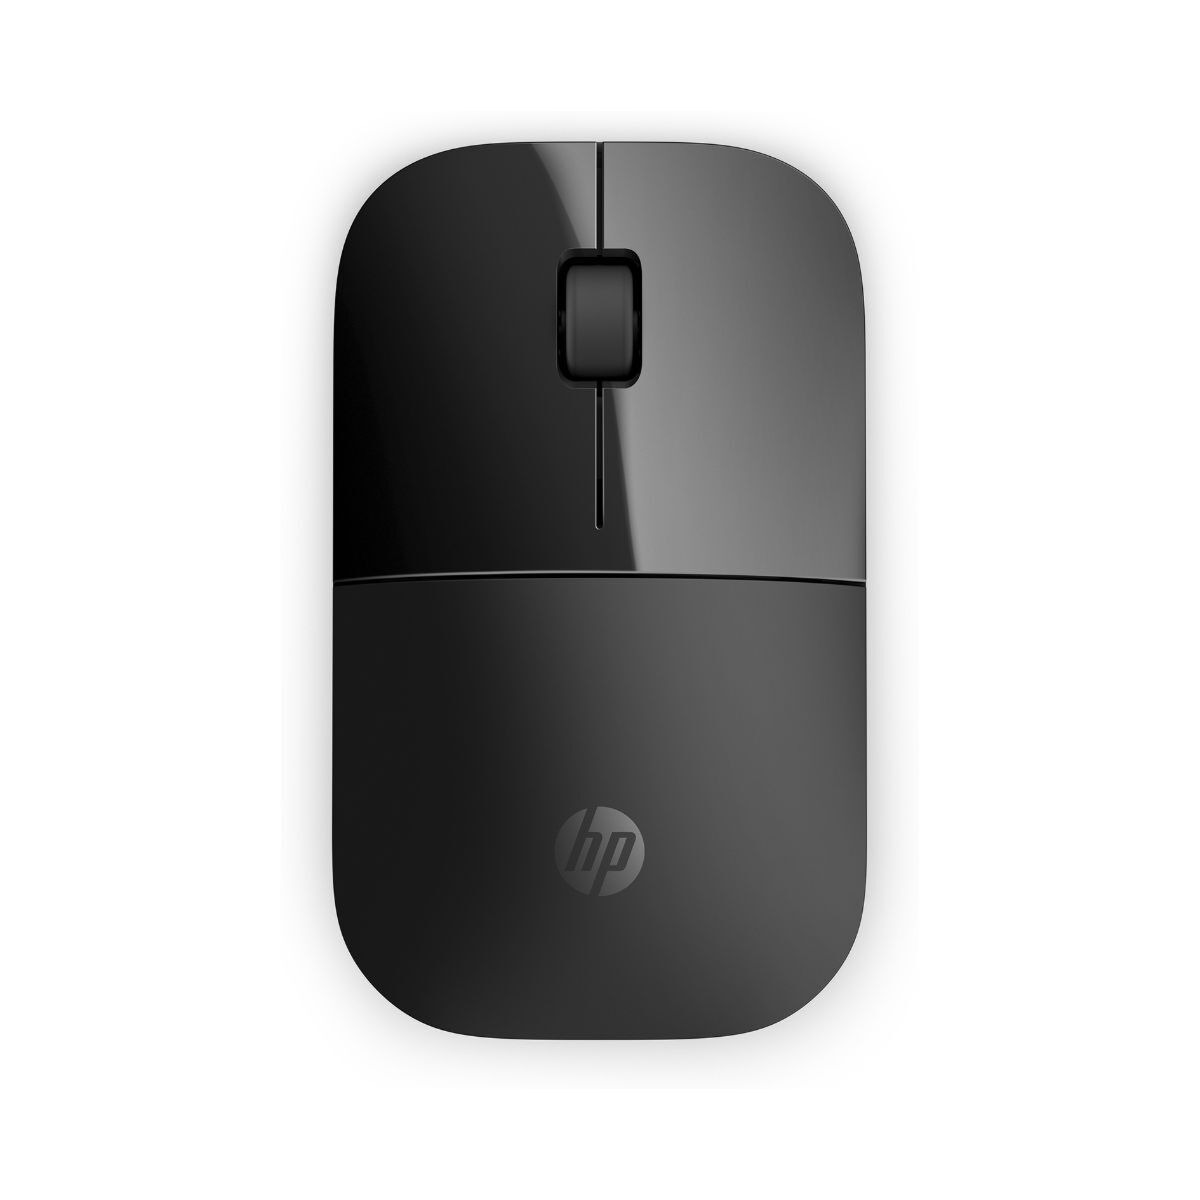mouse: (309, 104, 901, 1053)
